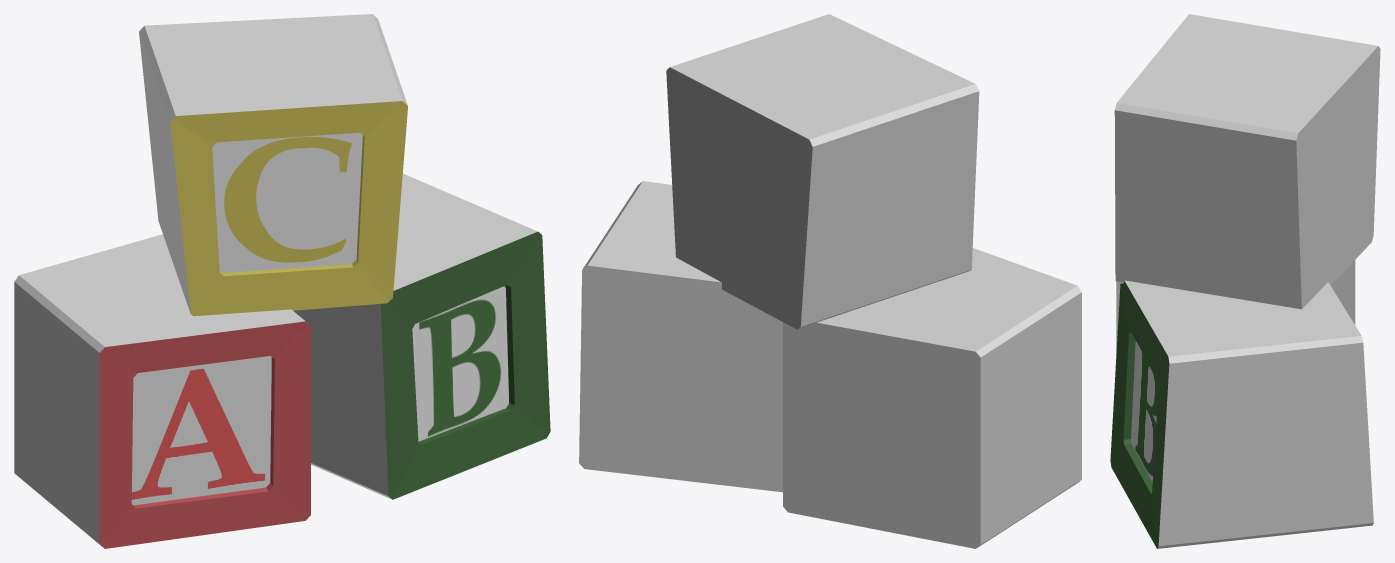
Rendered from abcblocks.fbx.
3 renders of one model, left to right at view 1: azimuth 30°, elevation 25°; view 2: azimuth 150°, elevation 25°; view 3: azimuth 270°, elevation 25°, orthographic. The views are drawn at different scales.
Visible parts, largest first — view 1: A.003, C.001, B.003; view 2: C.001, A.003, B.003; view 3: C.001, B.003, A.003.
Part boxes in pixels (left/top/right/bottom): A.003: left=14, top=234, right=310, bottom=548; C.001: left=139, top=14, right=407, bottom=316; B.003: left=293, top=173, right=550, bottom=499; C.001: left=666, top=14, right=979, bottom=329; A.003: left=783, top=248, right=1081, bottom=548; B.003: left=579, top=181, right=782, bottom=492; C.001: left=1114, top=14, right=1380, bottom=309; B.003: left=1110, top=280, right=1373, bottom=548; A.003: left=1116, top=260, right=1355, bottom=353.
Size of the model in its own units: 468 by 396 by 258.
7 materials, 3 textured.
